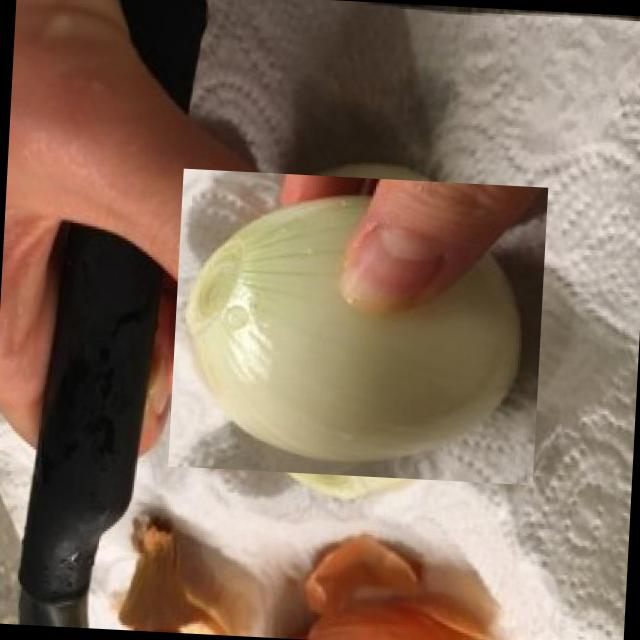Onion: (185, 153, 532, 502)
